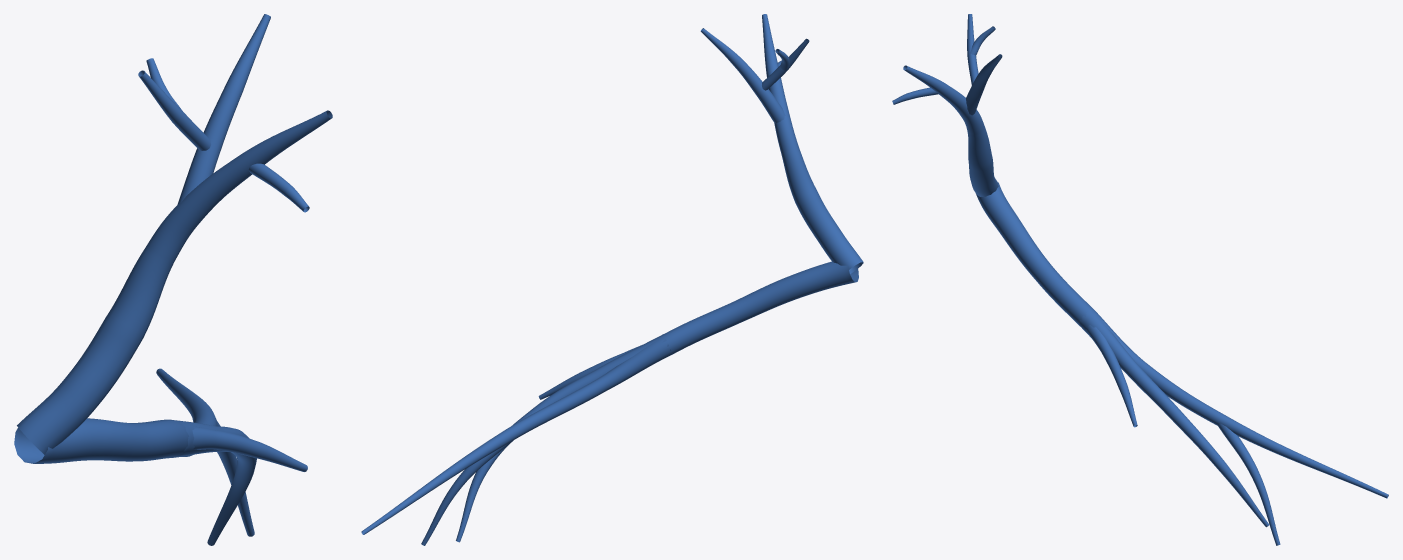
3 views of the same model, side by side, from view 1: azimuth 30°, elevation 25°; view 2: azimuth 150°, elevation 25°; view 3: azimuth 270°, elevation 25° (orthographic). The views are drawn at different scales.
Visible parts, largest first — view 1: 左肺下叶上静脉; view 2: 左肺下叶上静脉; view 3: 左肺下叶上静脉.
Part boxes in pixels (left/top/right/bottom): 左肺下叶上静脉: left=14, top=14, right=332, bottom=545; 左肺下叶上静脉: left=361, top=14, right=863, bottom=545; 左肺下叶上静脉: left=892, top=14, right=1388, bottom=545.
Bounding box in the file's own units: 0.1095 × 0.1593 × 0.1675.
